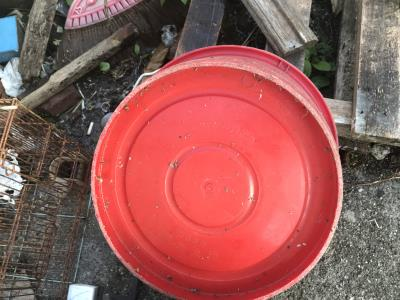bucket: (87, 43, 346, 300)
